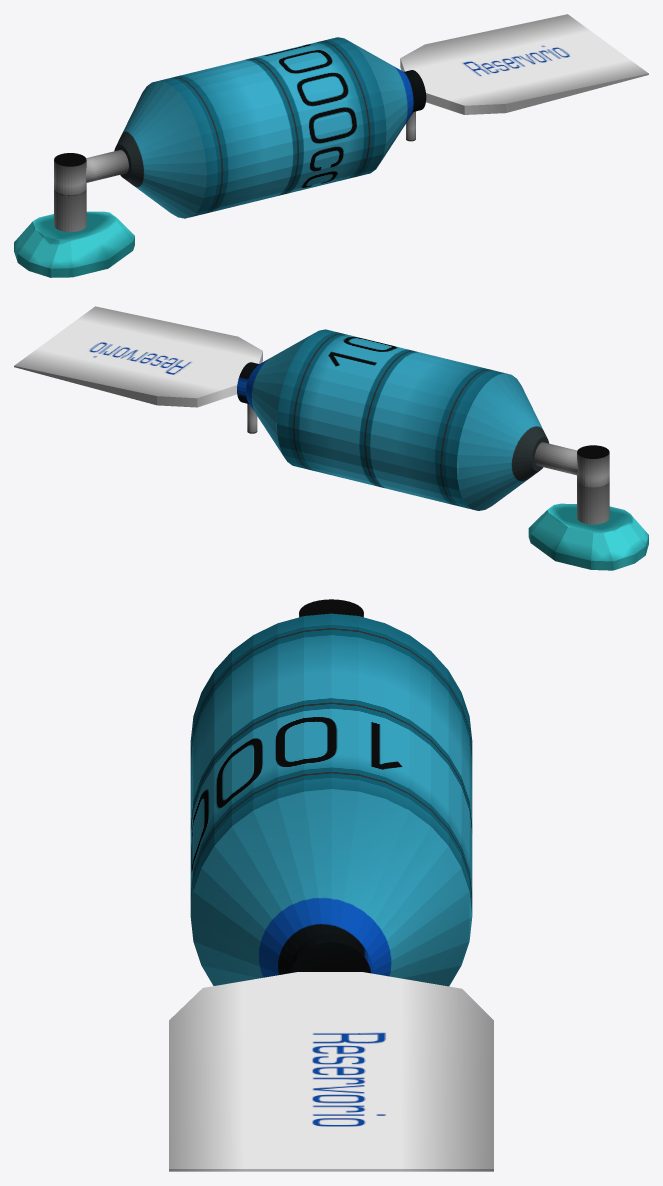
The model's file is ambu1000.fbx.
The picture shows the model from 3 angles, top to bottom: view 1: azimuth 30°, elevation 25°; view 2: azimuth 150°, elevation 25°; view 3: azimuth 270°, elevation 25°; orthographic projection. The views are drawn at different scales.
Visible parts, largest first — view 1: Cylinder.003, Plane.001, Plane, Cylinder.001, Cylinder, Cylinder.002; view 2: Cylinder.003, Plane.001, Plane, Cylinder.001, Cylinder, Cylinder.002; view 3: Cylinder.003, Plane.001, Cylinder.001.
Part boxes in pixels (box(x1,y1,x2,y2)): Cylinder.003: box(114, 37, 426, 218); Plane.001: box(400, 14, 648, 114); Plane: box(14, 211, 134, 277); Cylinder.001: box(54, 153, 86, 195); Cylinder: box(54, 189, 86, 231); Cylinder.002: box(85, 150, 128, 182); Cylinder.003: box(237, 329, 549, 510); Plane.001: box(14, 306, 262, 407); Plane: box(528, 503, 648, 570); Cylinder.001: box(577, 445, 609, 488); Cylinder: box(577, 481, 609, 524); Cylinder.002: box(534, 442, 577, 475); Cylinder.003: box(190, 613, 472, 986); Plane.001: box(169, 972, 493, 1171); Cylinder.001: box(299, 599, 363, 617).
Bounding box in the file's own units: 83.2 × 19.68 × 20.
